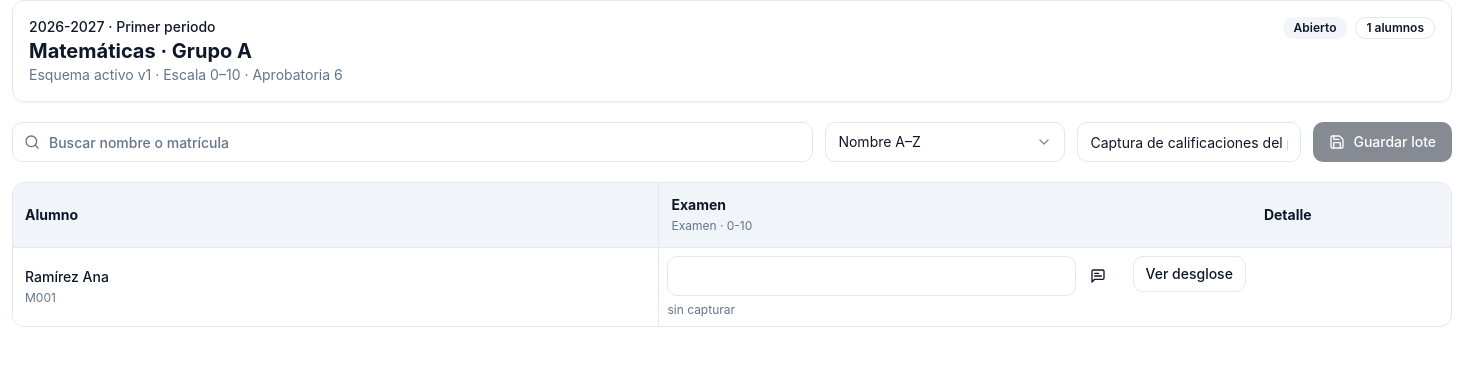
Scenario: Paso 11: editor accesible y explícito › bloquea una nota fuera de 0–10 y no envía el lote
Type "11" into the number field named "Ramírez Ana, Examen, calificación de 0 a 10" at (872, 276), box [668, 256, 1076, 296]
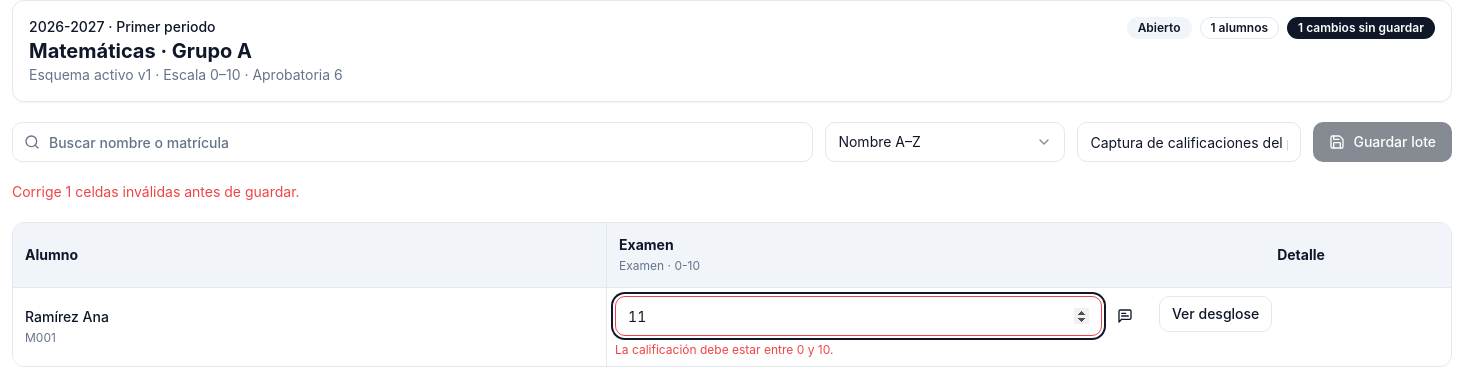
Check: the button "Guardar lote" is disabled, box [1313, 122, 1452, 162]
Check: the text "La calificación debe estar entre 0 y 10." is shown, box [615, 342, 833, 357]
